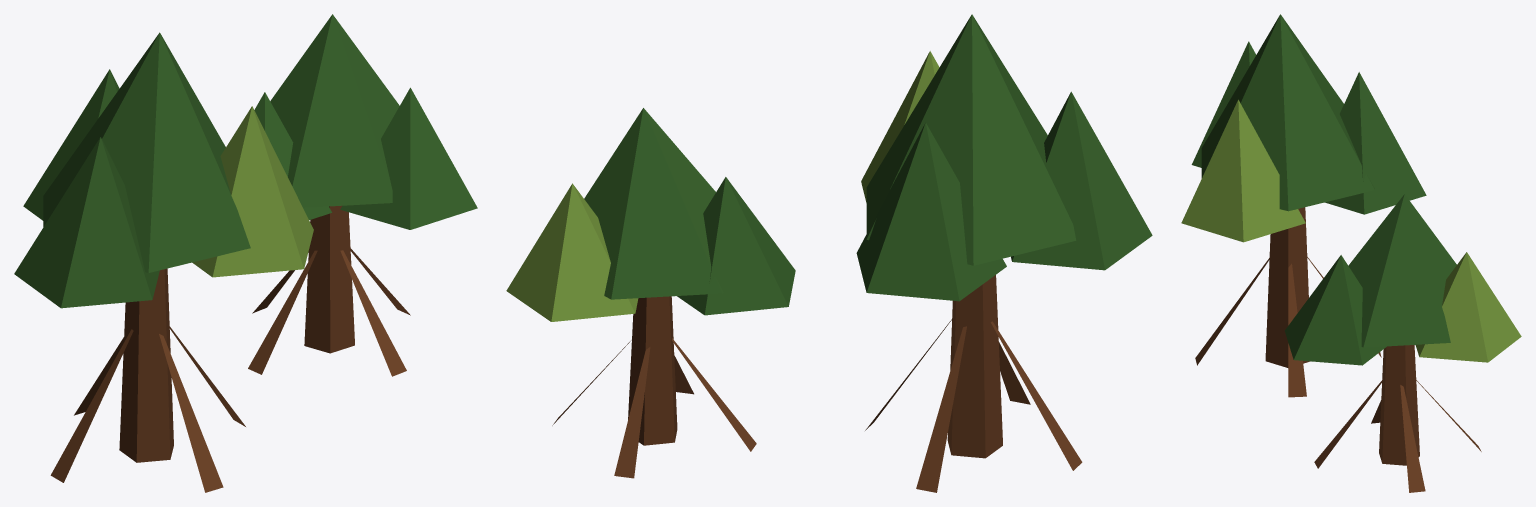
The model's file is MangrovePair.fbx.
The picture shows the model from 3 angles, left to right: view 1: azimuth 30°, elevation 25°; view 2: azimuth 150°, elevation 25°; view 3: azimuth 270°, elevation 25°; orthographic projection. The views are drawn at different scales.
Parts seen in each view (by area): view 1: MangrovePair; view 2: MangrovePair; view 3: MangrovePair.
Part boxes in pixels (x1,y1,x2,y2): MangrovePair: (14, 14, 477, 492); MangrovePair: (506, 14, 1152, 492); MangrovePair: (1181, 14, 1521, 492).
Size of the model in its own units: 86.88 by 73.15 by 65.12.
